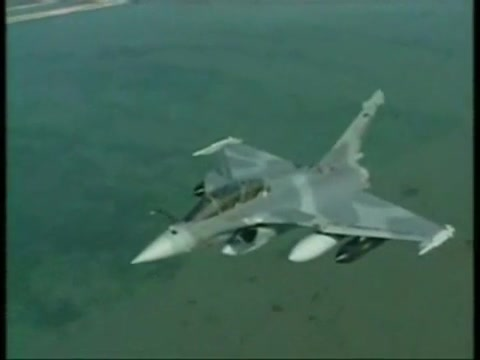aeroplane: (131, 88, 454, 266)
